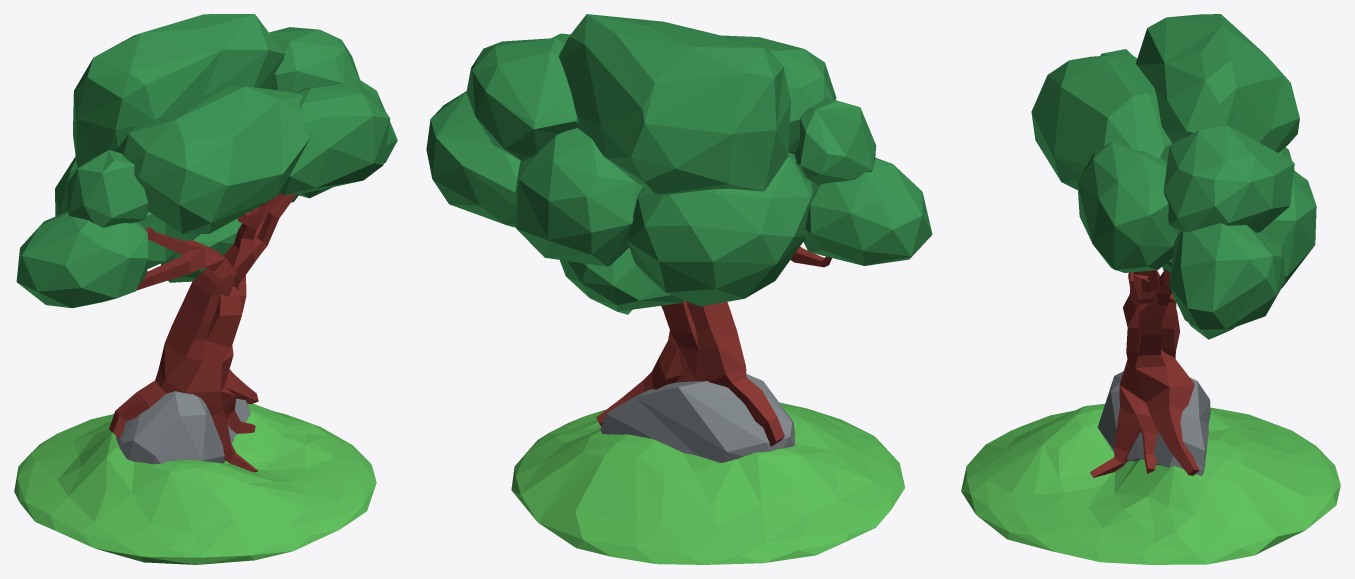
The model's file is Flat_Tree_Oak_hero_green.glb.
3 views of the same model, side by side, from view 1: azimuth 30°, elevation 25°; view 2: azimuth 150°, elevation 25°; view 3: azimuth 270°, elevation 25° (orthographic). The views are drawn at different scales.
Parts seen in each view (by area): view 1: Oak hero green f; view 2: Oak hero green f; view 3: Oak hero green f.
Boxes of the visible parts, bbox=[...] form: Oak hero green f: bbox=[14, 14, 397, 564]; Oak hero green f: bbox=[426, 14, 932, 564]; Oak hero green f: bbox=[961, 14, 1340, 564].
Size of the model in its own units: 16.12 by 16.31 by 12.3.
